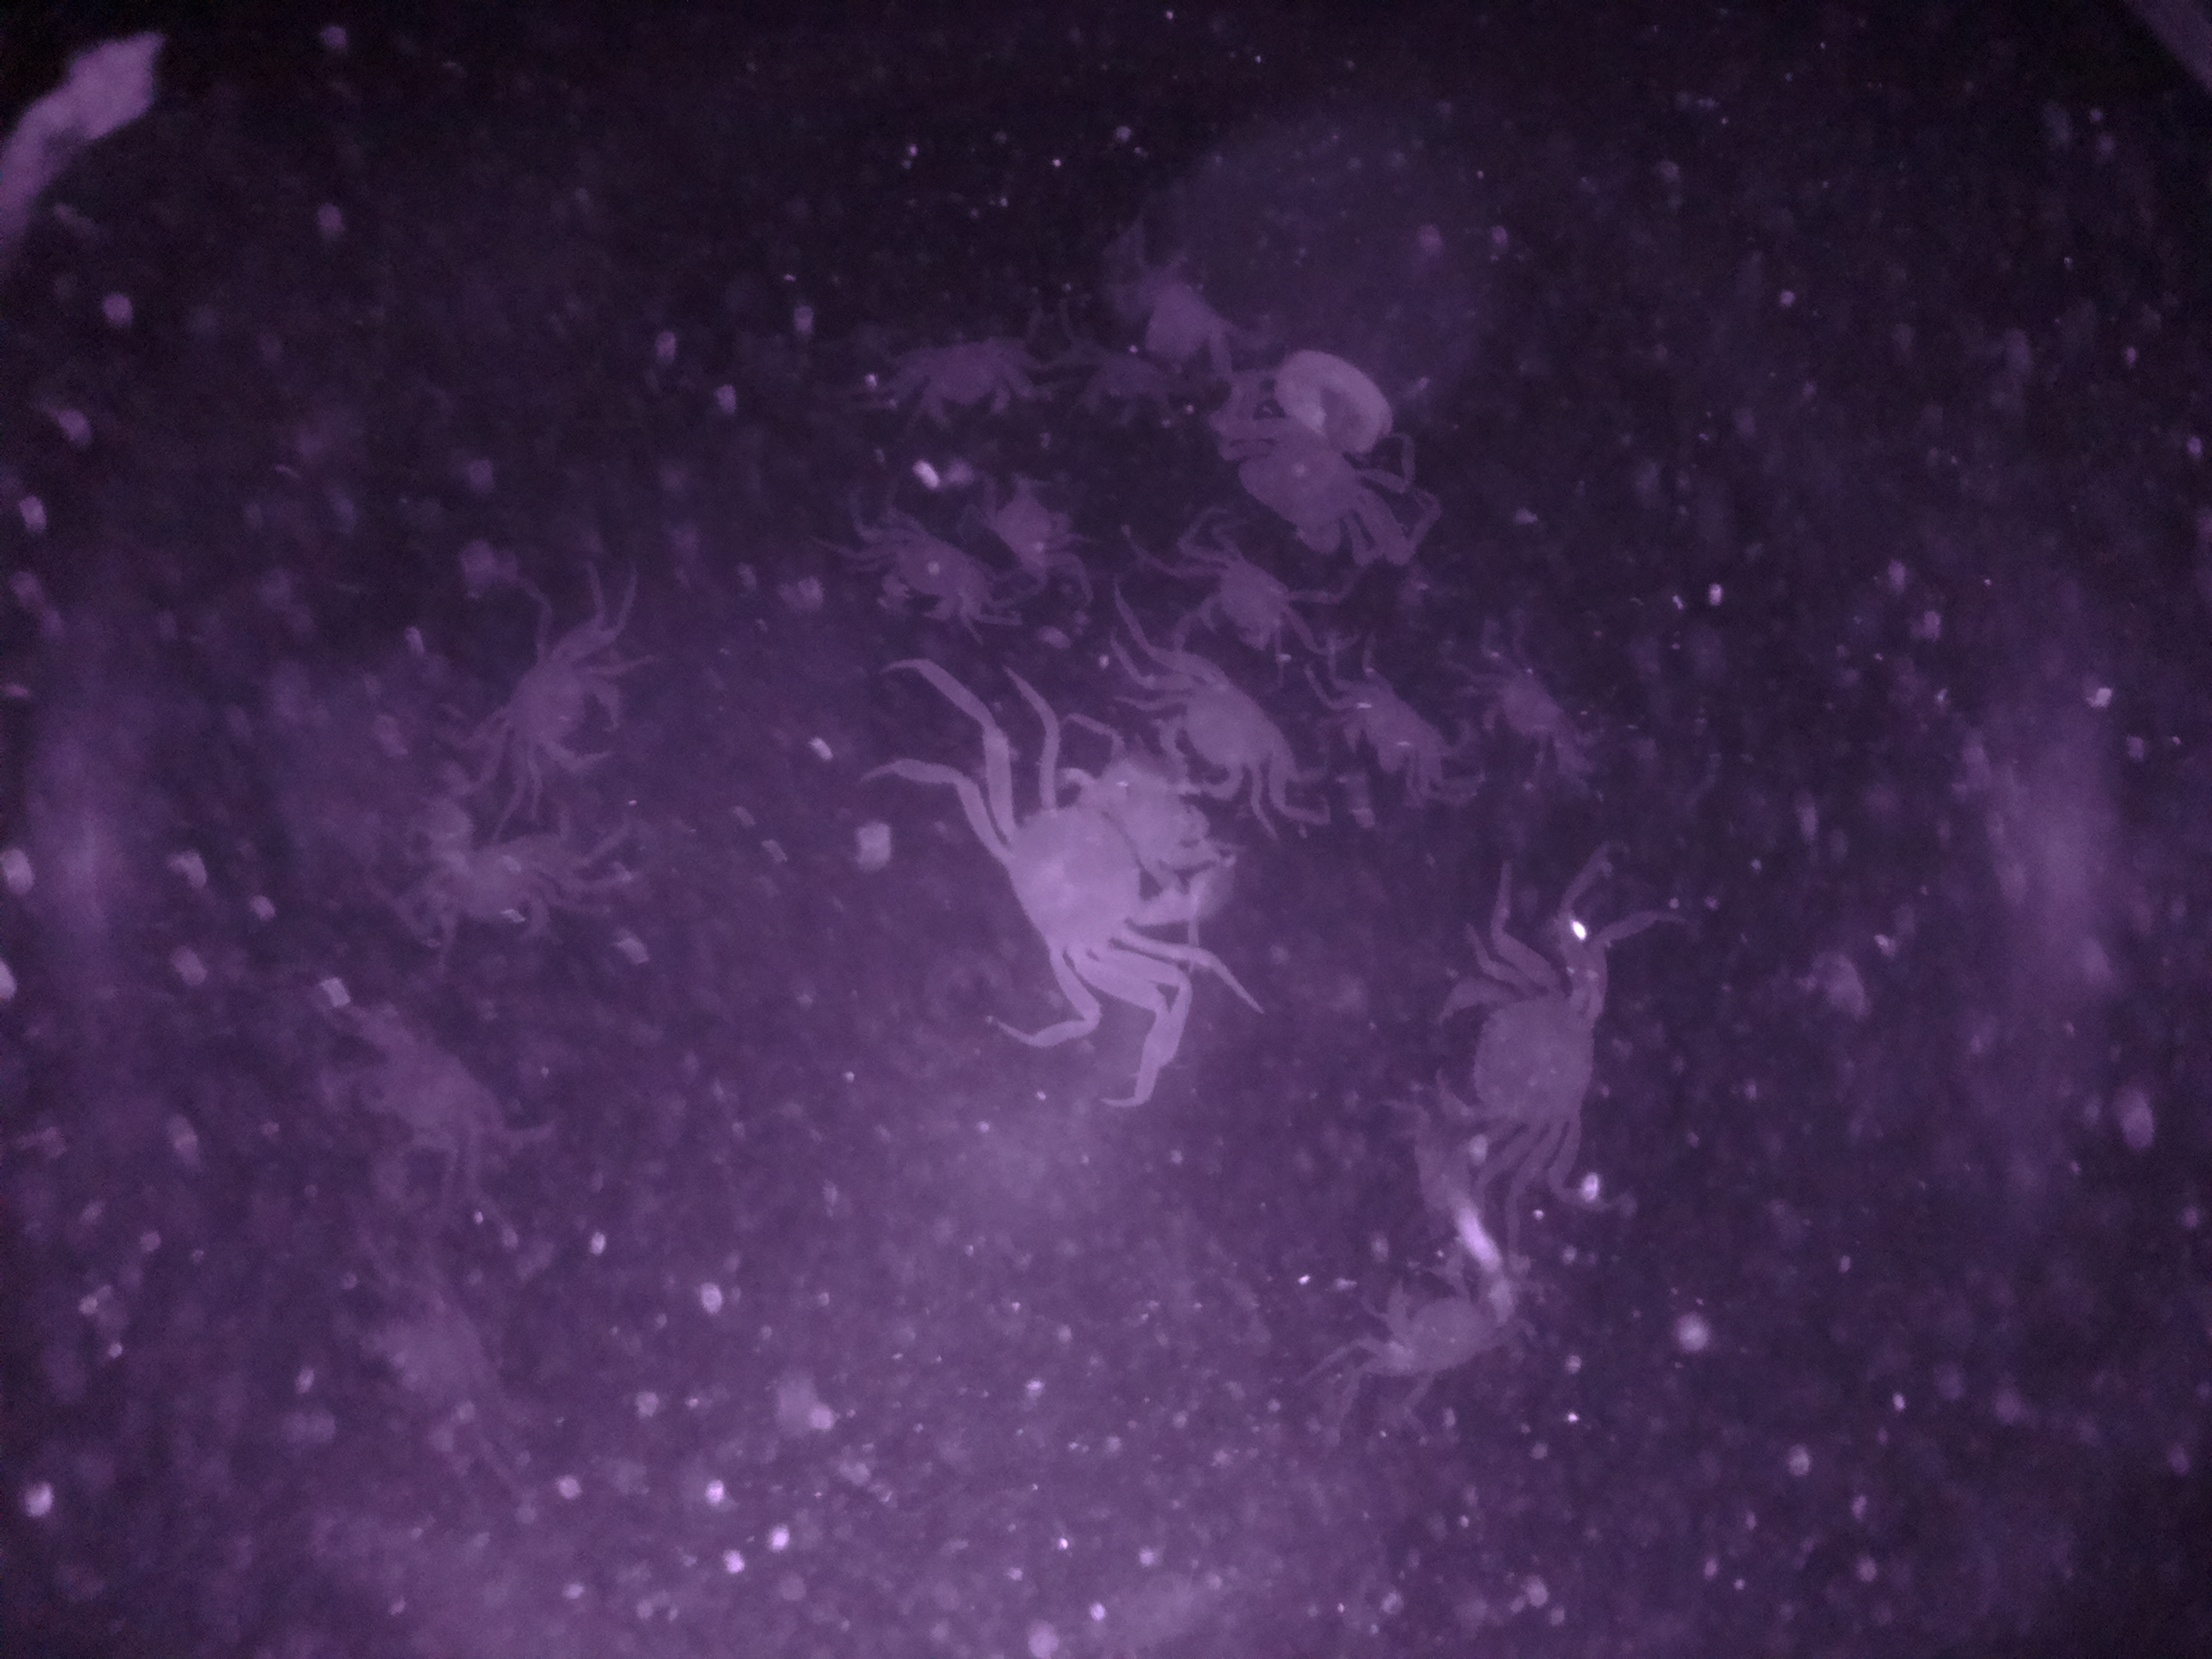Crab: (1418, 925, 1622, 1187), (1343, 1230, 1541, 1403), (484, 620, 646, 800), (1144, 653, 1301, 814), (878, 314, 1054, 441), (857, 505, 1014, 641), (1179, 516, 1312, 662), (1318, 664, 1463, 796)
